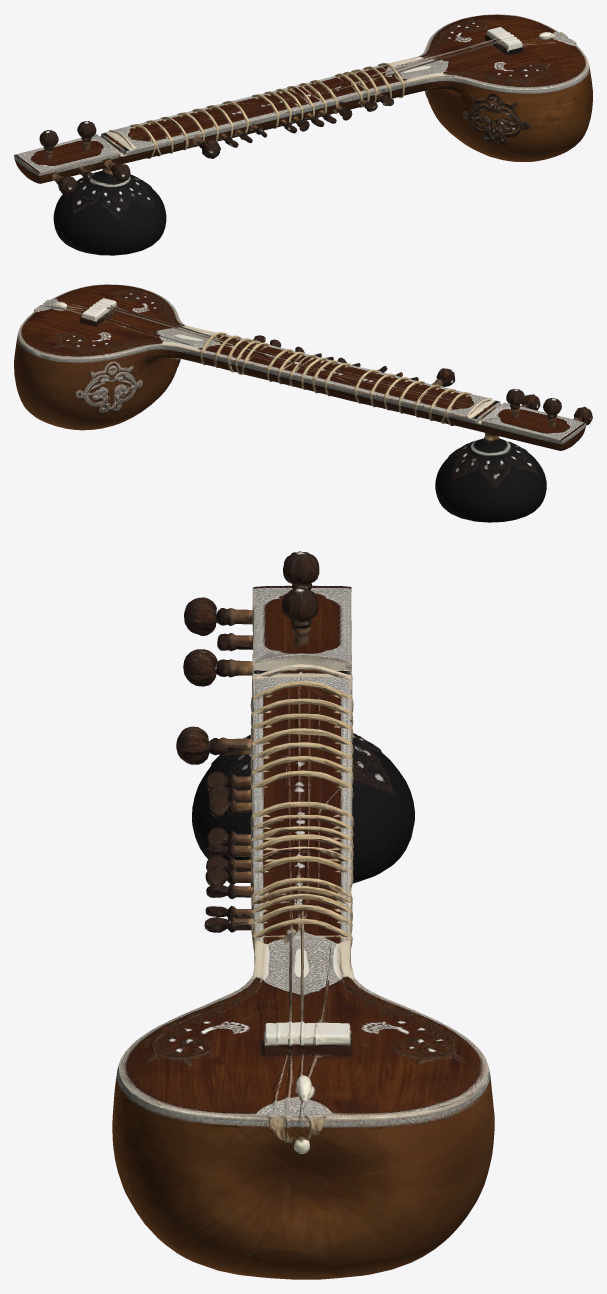
Rendered from sitar.glb.
3 views of the same model, one above another, from view 1: azimuth 30°, elevation 25°; view 2: azimuth 150°, elevation 25°; view 3: azimuth 270°, elevation 25° (orthographic). The views are drawn at different scales.
Visible parts, largest first — view 1: placed; view 2: placed; view 3: placed.
Part boxes in pixels (x1=…): placed: x1=14, y1=14, x2=592, y2=255; placed: x1=14, y1=284, x2=592, y2=522; placed: x1=112, y1=551, x2=494, y2=1279.
Bounding box in the file's own units: 1.22 × 0.2739 × 0.374.
1 material, 1 textured.
